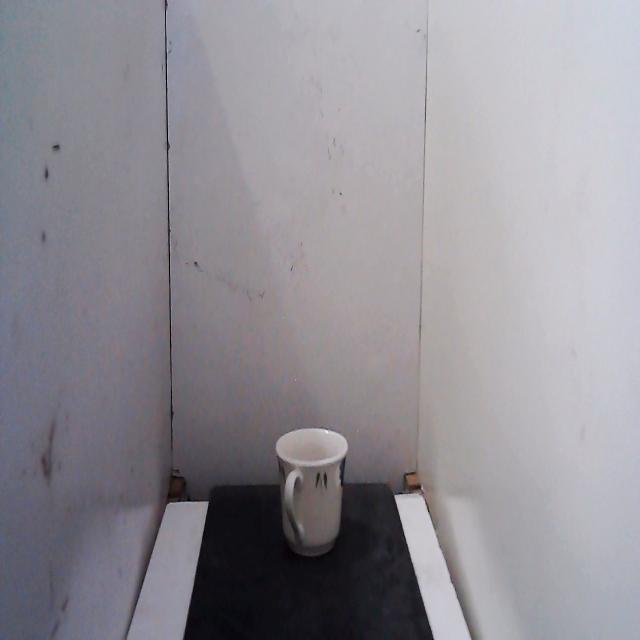vidro: (268, 414, 354, 574)
